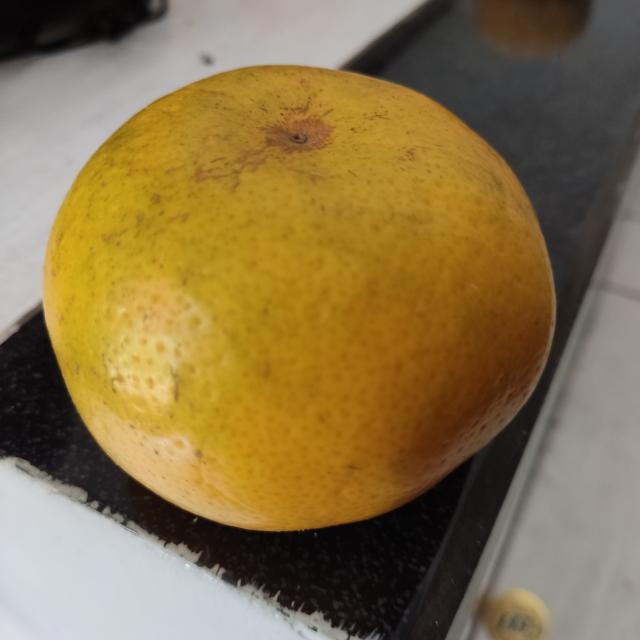orange: (39, 62, 560, 534)
